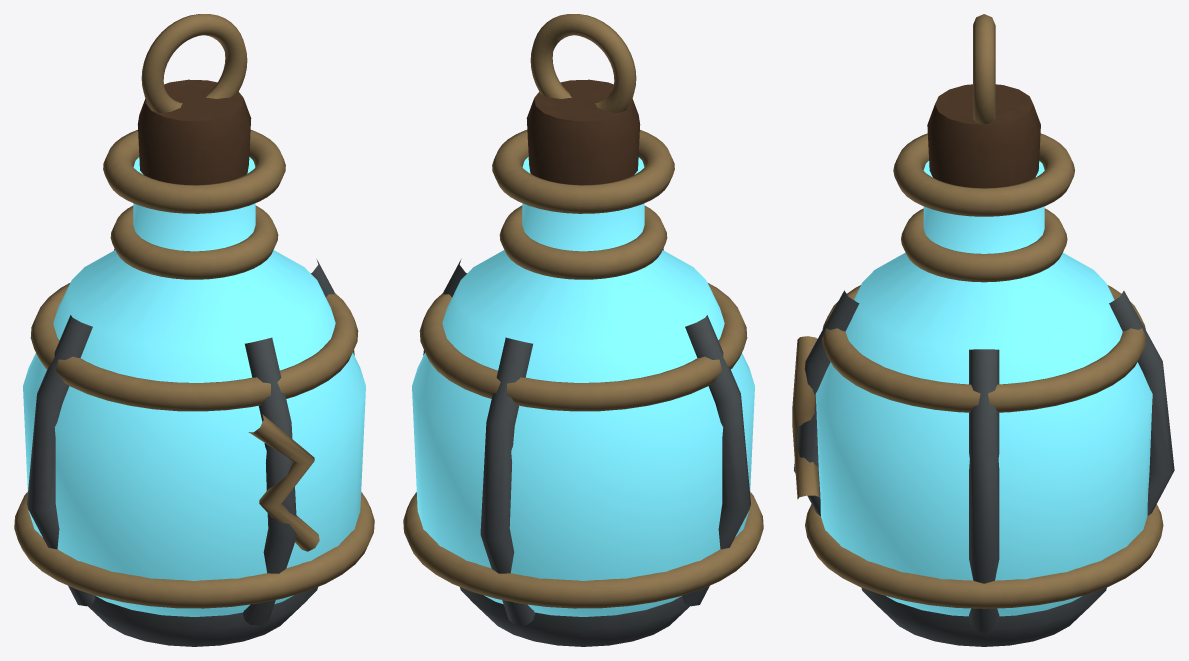
Rendered from fury_pickup.glb.
The picture shows the model from 3 angles, left to right: view 1: azimuth 30°, elevation 25°; view 2: azimuth 150°, elevation 25°; view 3: azimuth 270°, elevation 25°; orthographic projection.
Parts seen in each view (by area): view 1: fury_pickup; view 2: fury_pickup; view 3: fury_pickup.
Part boxes in pixels (left/top/right/bottom): fury_pickup: left=14, top=14, right=374, bottom=646; fury_pickup: left=403, top=14, right=763, bottom=646; fury_pickup: left=792, top=14, right=1174, bottom=646.
Size of the model in its own units: 0.3016 by 0.512 by 0.3027.
4 materials, 3 textured.
